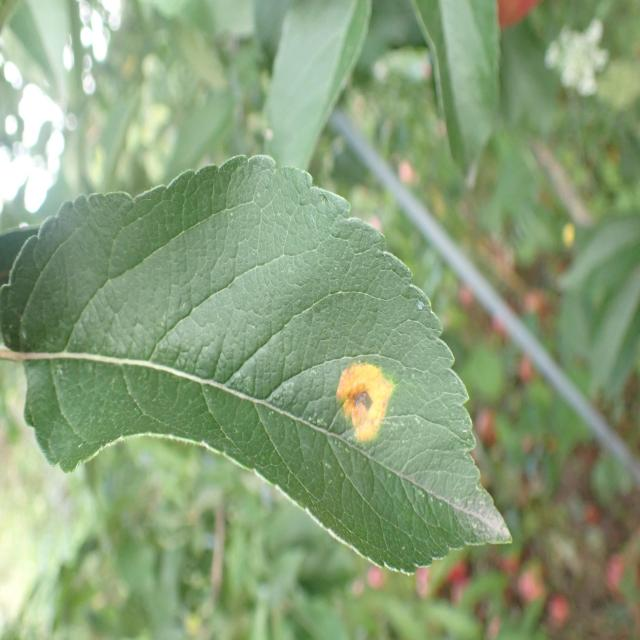rust: (1, 154, 514, 577)
